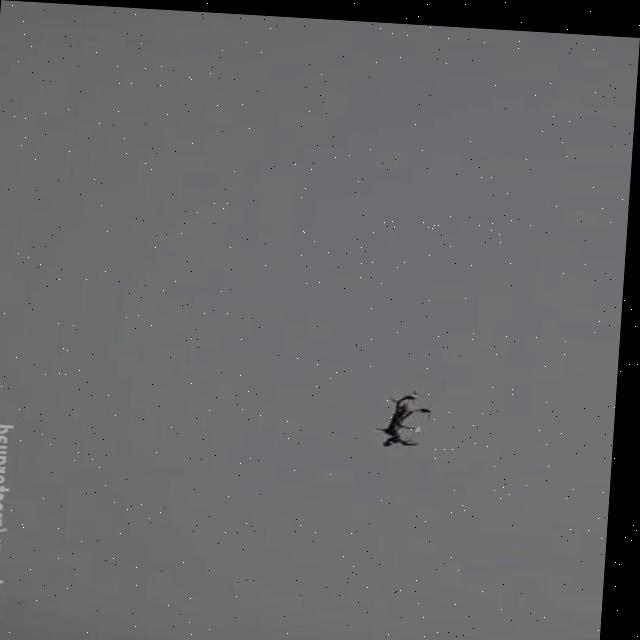drone: (374, 380, 445, 450)
